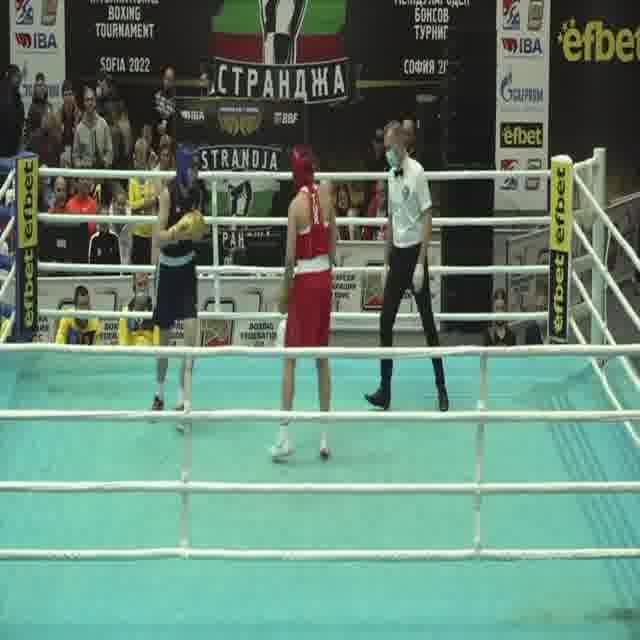blue-player: (147, 140, 206, 438)
red-player: (266, 140, 338, 463)
referee: (360, 116, 452, 418)
